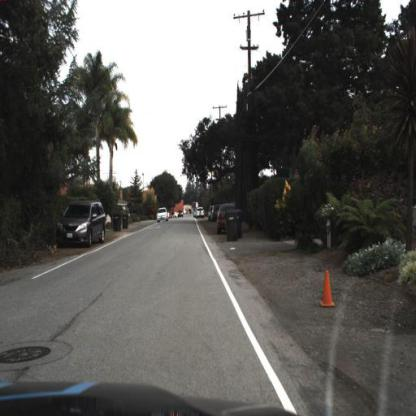car: (55, 197, 109, 253), (216, 203, 239, 236), (219, 203, 242, 234), (157, 206, 171, 223)
